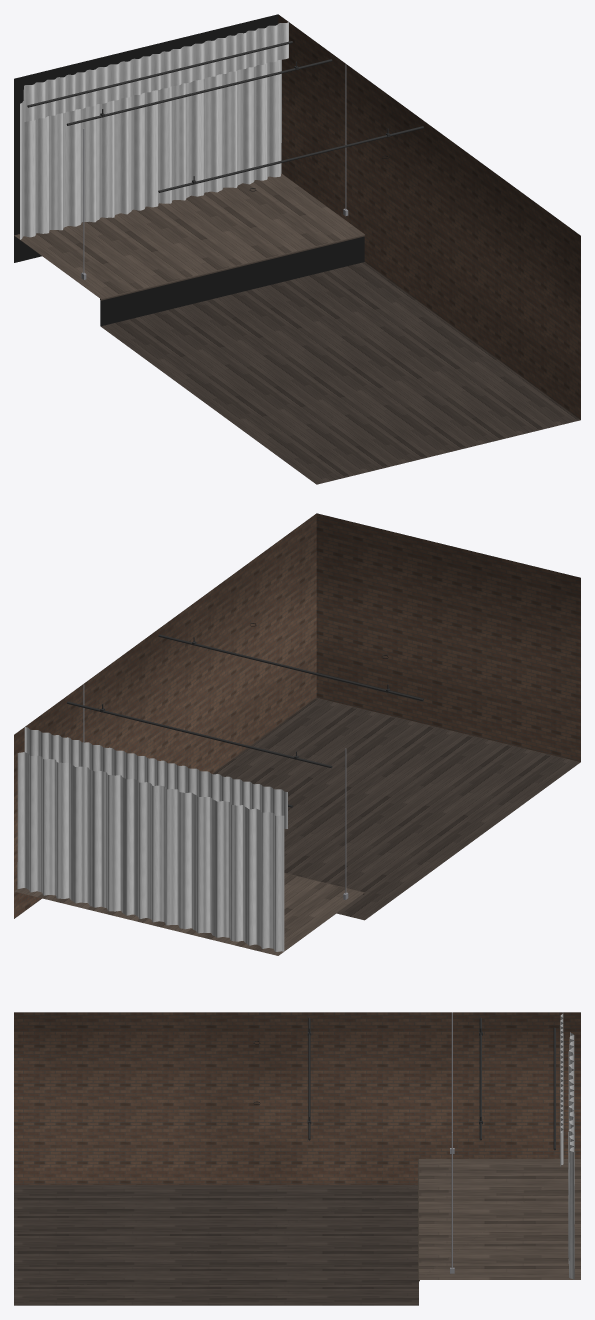
The model's file is venue.glb.
3 renders of one model, top to bottom at view 1: azimuth 30°, elevation 25°; view 2: azimuth 150°, elevation 25°; view 3: azimuth 270°, elevation 25°, orthographic. The views are drawn at different scales.
Visible parts, largest first — view 1: shell, rigging; view 2: shell, rigging; view 3: shell, rigging.
Part boxes in pixels (x1,y1,x2,y2): shell: [14, 14, 580, 484]; rigging: [27, 41, 423, 279]; shell: [14, 513, 580, 955]; rigging: [67, 634, 423, 899]; shell: [14, 1012, 580, 1305]; rigging: [307, 1012, 555, 1273].
Bounding box in the file's own units: 6 × 4 × 11.9.
Materials: 10 (4 with a texture image).
